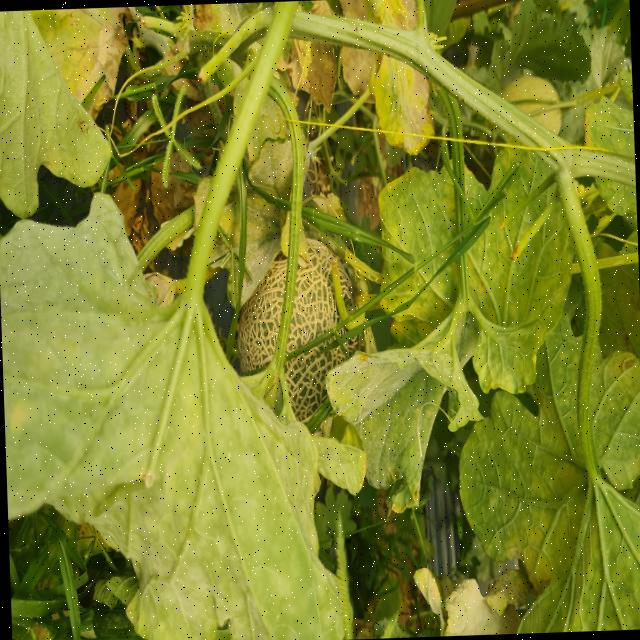melon: (285, 238, 339, 352), (237, 255, 286, 372), (283, 340, 344, 421), (337, 264, 353, 301)
